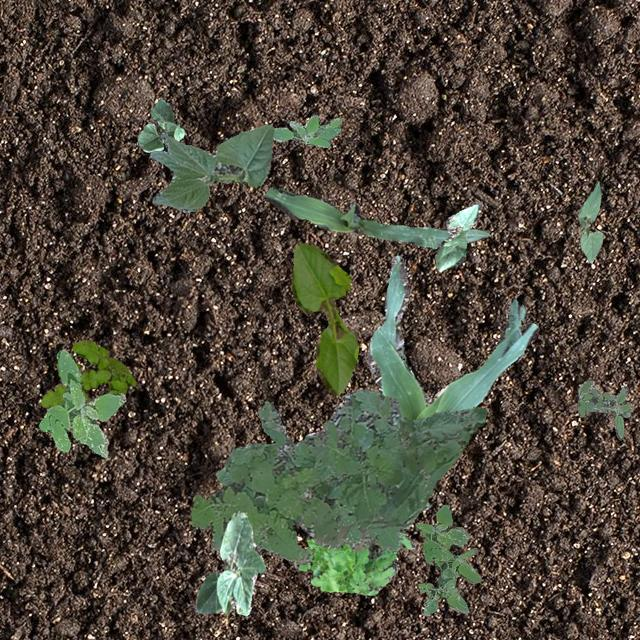crop: (304, 254, 536, 508), (262, 185, 490, 248), (150, 124, 274, 212), (290, 242, 358, 394), (194, 510, 264, 614), (434, 200, 480, 270), (136, 98, 183, 150), (576, 180, 602, 262)
weed: (188, 388, 484, 564), (38, 348, 124, 456), (414, 504, 481, 616), (294, 532, 412, 594), (39, 338, 134, 406), (578, 379, 632, 438), (272, 114, 341, 146)
